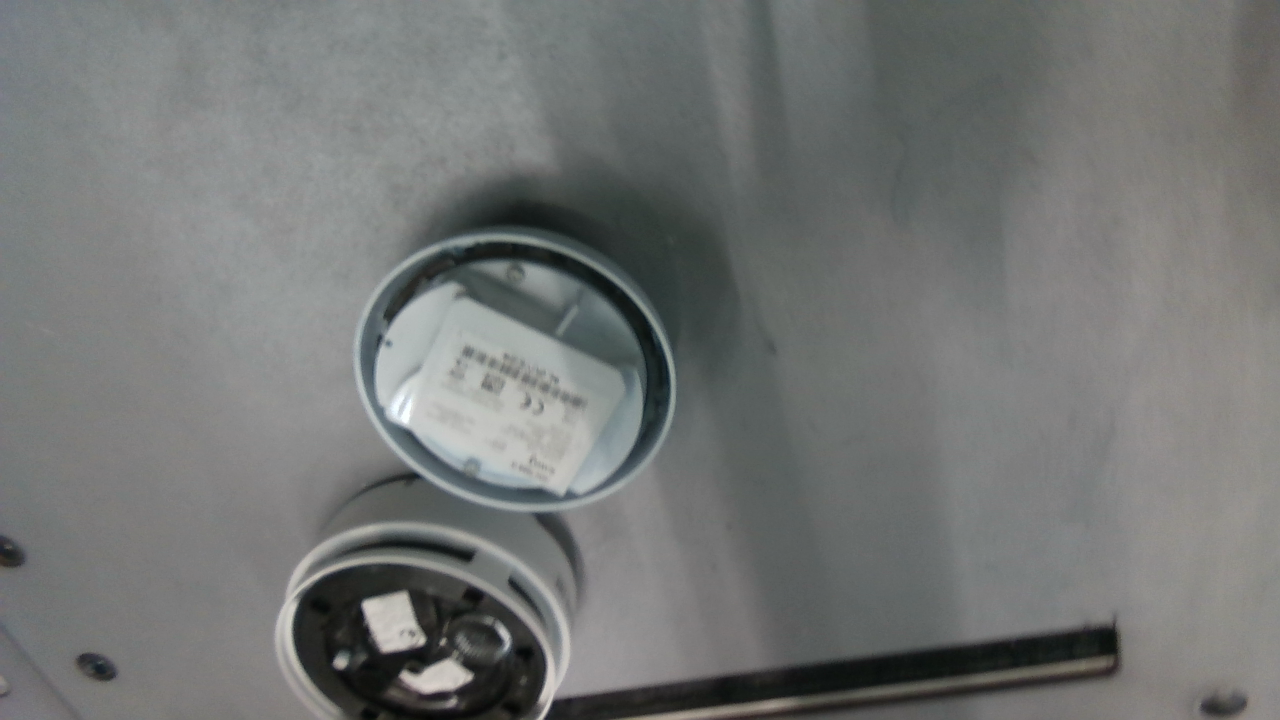HexScrew: (462, 460, 483, 478), (507, 266, 524, 288)
